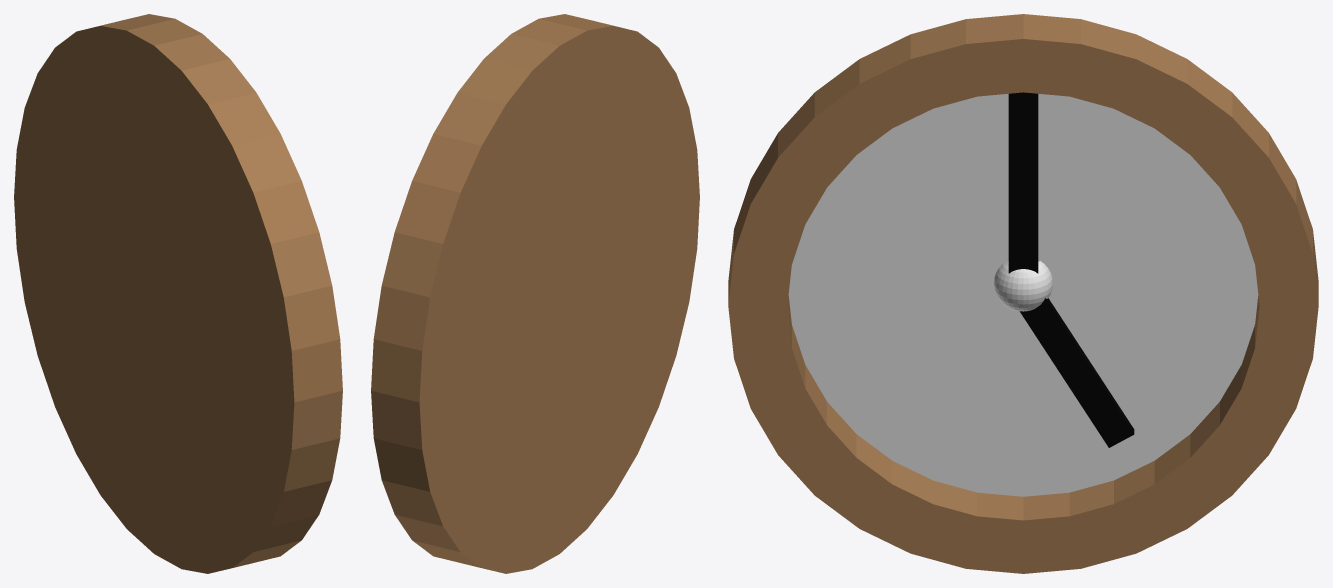
File: clock.dae
The picture shows the model from 3 angles, left to right: view 1: azimuth 30°, elevation 25°; view 2: azimuth 150°, elevation 25°; view 3: azimuth 270°, elevation 25°; orthographic projection. The views are drawn at different scales.
Visible parts, largest first — view 1: Circle; view 2: Circle; view 3: Circle.001, Circle, Cube, Cube.001, Sphere.
Boxes of the visible parts, <box> form: Circle: <box>14,14,342,573</box>; Circle: <box>371,14,699,573</box>; Circle.001: <box>788,93,1258,496</box>; Circle: <box>728,14,1318,573</box>; Cube: <box>1008,92,1038,273</box>; Cube.001: <box>1019,298,1134,447</box>; Sphere: <box>994,261,1052,311</box>.
Bounding box in the file's own units: 0.2 × 2 × 2.
